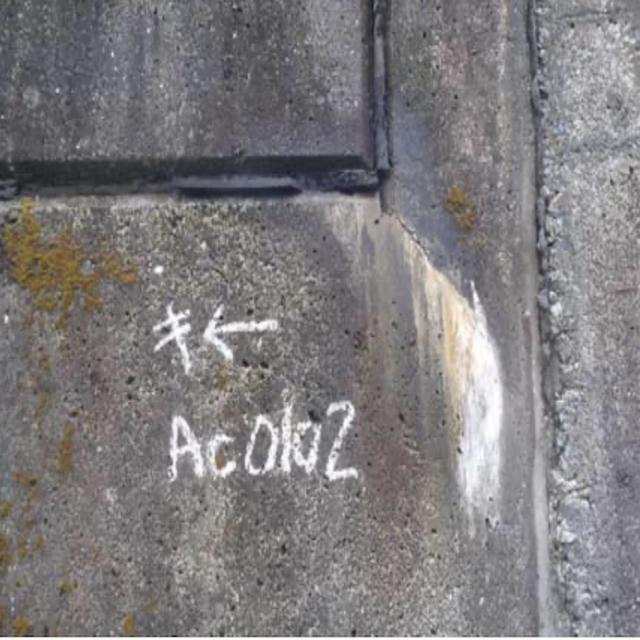freelime: (430, 268, 510, 526)
